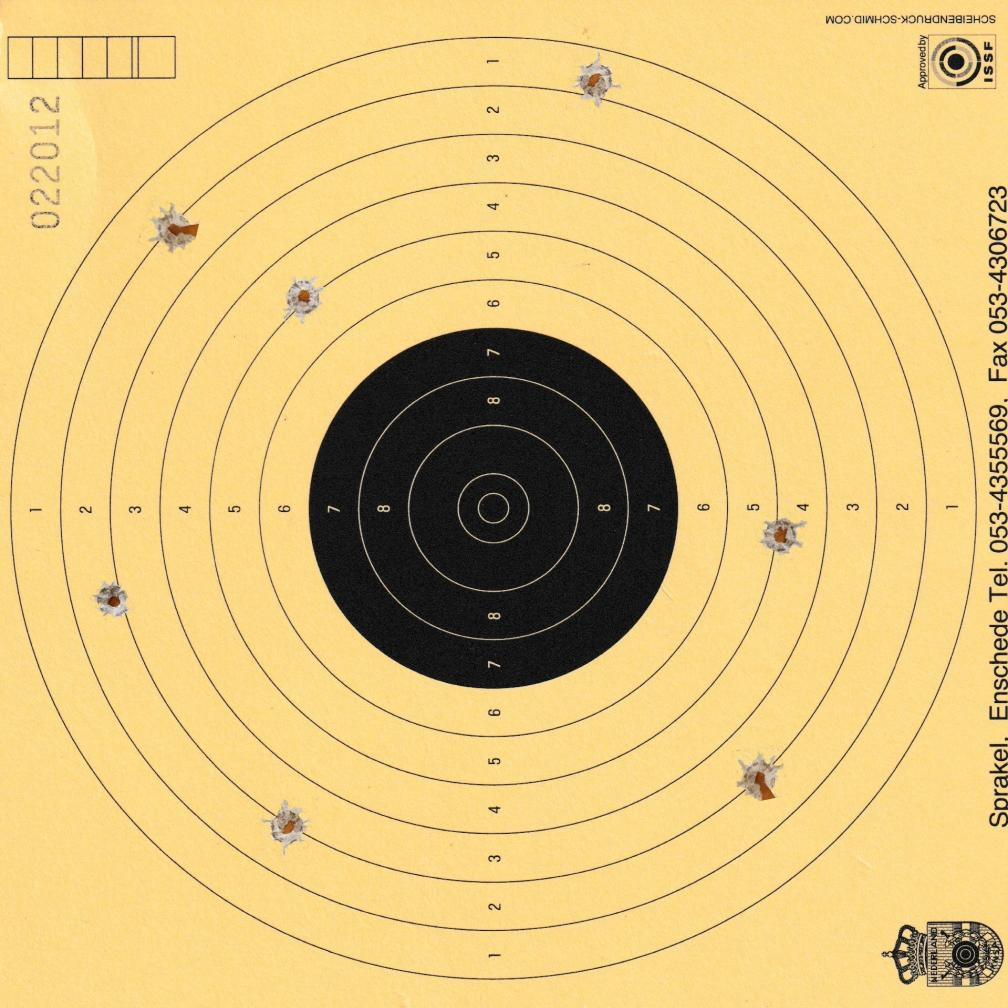2: (576, 55, 618, 106)
3: (260, 802, 306, 854), (739, 755, 787, 804), (151, 206, 201, 250), (89, 580, 138, 618)
4: (761, 518, 810, 556)
5: (286, 278, 324, 320)
Target: (6, 30, 984, 981)
black_contour: (306, 327, 679, 690)
